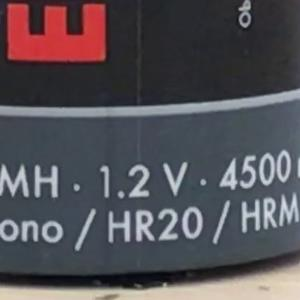keyword: (99, 197, 204, 252)
